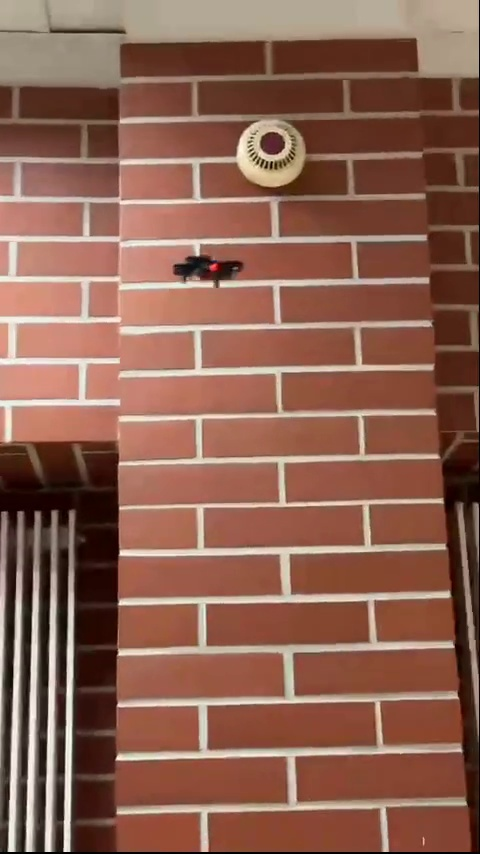drone: (170, 251, 241, 285)
